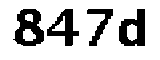4: (46, 7, 80, 50)
7: (83, 6, 114, 50)
8: (10, 4, 46, 48)
d: (117, 8, 150, 51)
